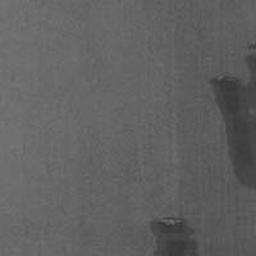Oil spot: (209, 40, 256, 192), (148, 210, 202, 256)
